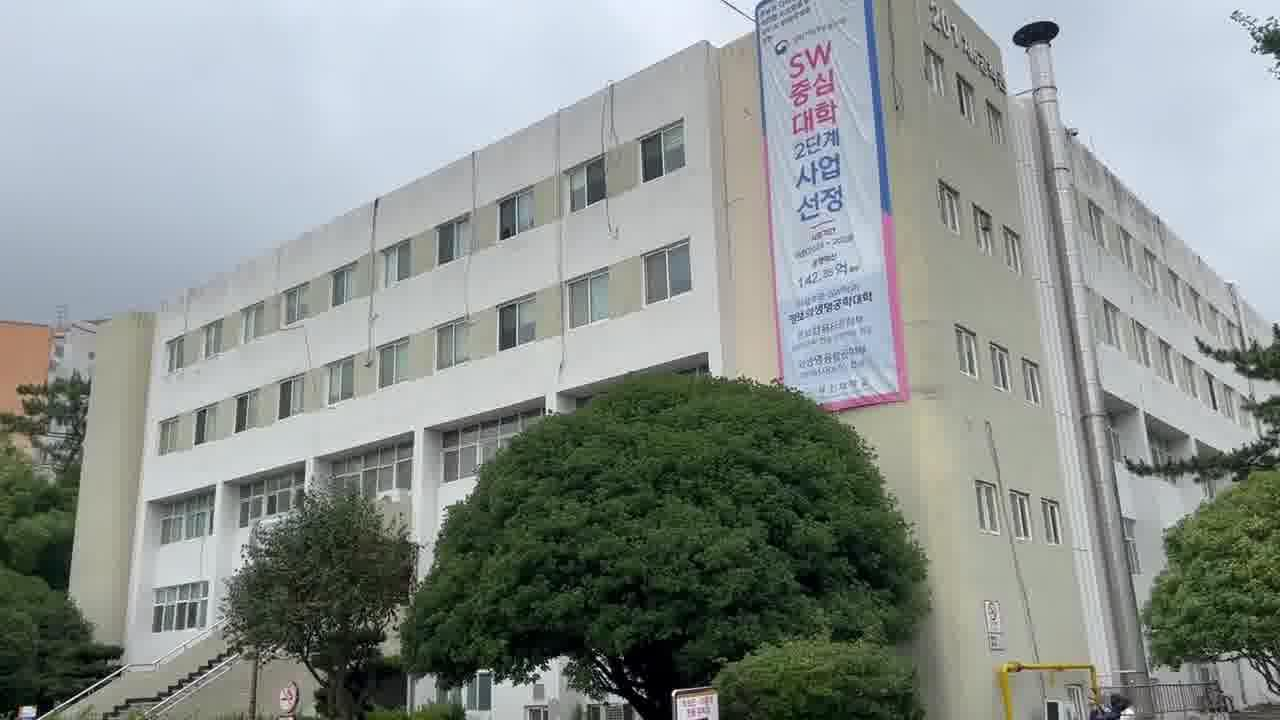building: (106, 101, 752, 417)
